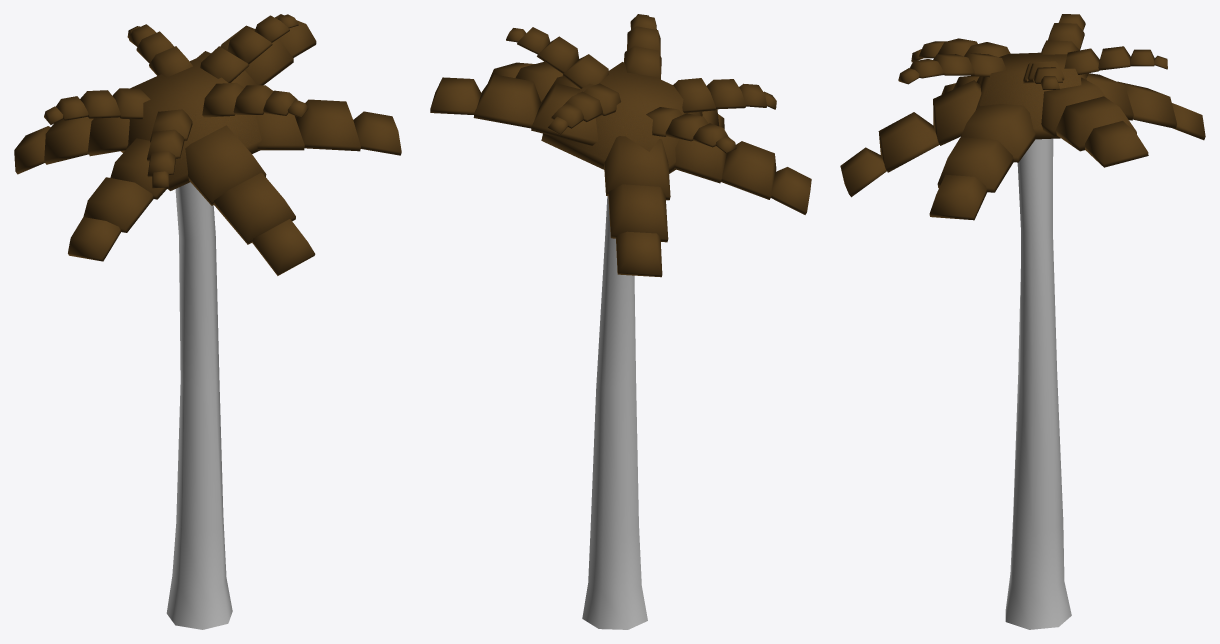
File: tree6.obj
3 views of the same model, side by side, from view 1: azimuth 30°, elevation 25°; view 2: azimuth 150°, elevation 25°; view 3: azimuth 270°, elevation 25° (orthographic). The views are drawn at different scales.
Parts seen in each view (by area): view 1: Cube_Cube.001, Cylinder; view 2: Cube_Cube.001, Cylinder; view 3: Cube_Cube.001, Cylinder.
Part boxes in pixels (x1,y1,x2,y2): Cube_Cube.001: (14,14,401,275); Cylinder: (166,182,232,629); Cube_Cube.001: (430,14,811,277); Cylinder: (582,196,647,629); Cube_Cube.001: (840,14,1205,220); Cylinder: (1005,138,1071,629).
Bounding box in the file's own units: 3.22 × 5.44 × 3.07.
